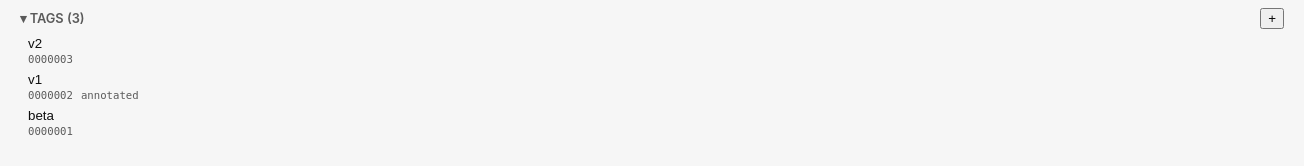
Test: TagsPanel collapse › clicking again collapses and stores true
Click the button "Tags (3)" at (52, 18), box top-left (20, 9), bottom-right (85, 28)
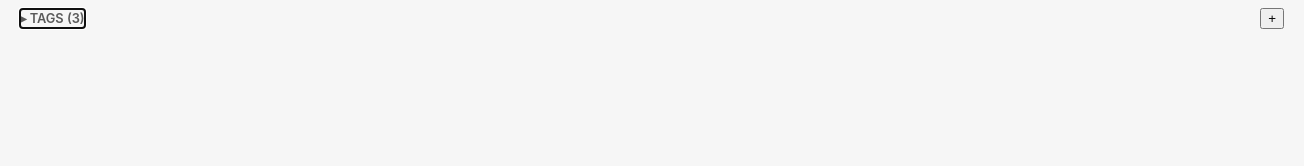
Now the button "Tags (3)" is collapsed, box top-left (20, 9), bottom-right (85, 28)
